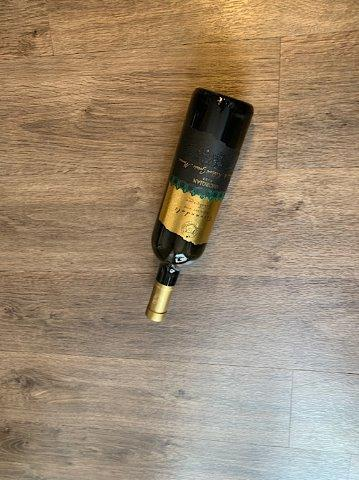botolkaca: (144, 90, 255, 318)
